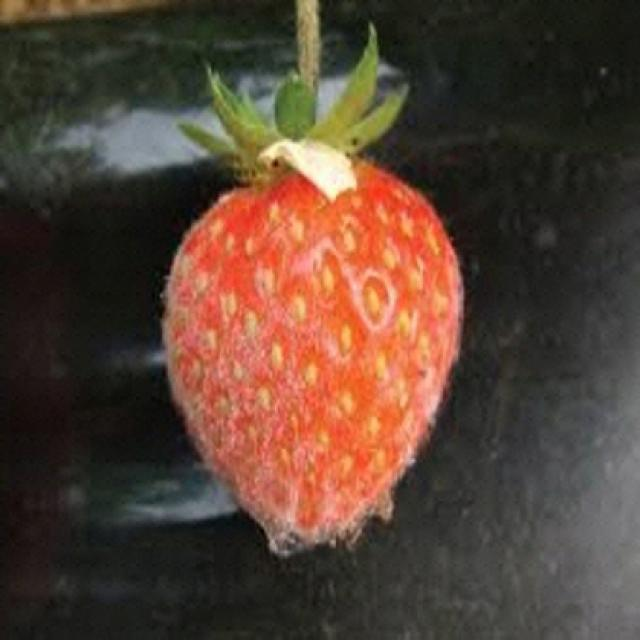Powdery Mildew Fruit: (163, 158, 467, 548)
